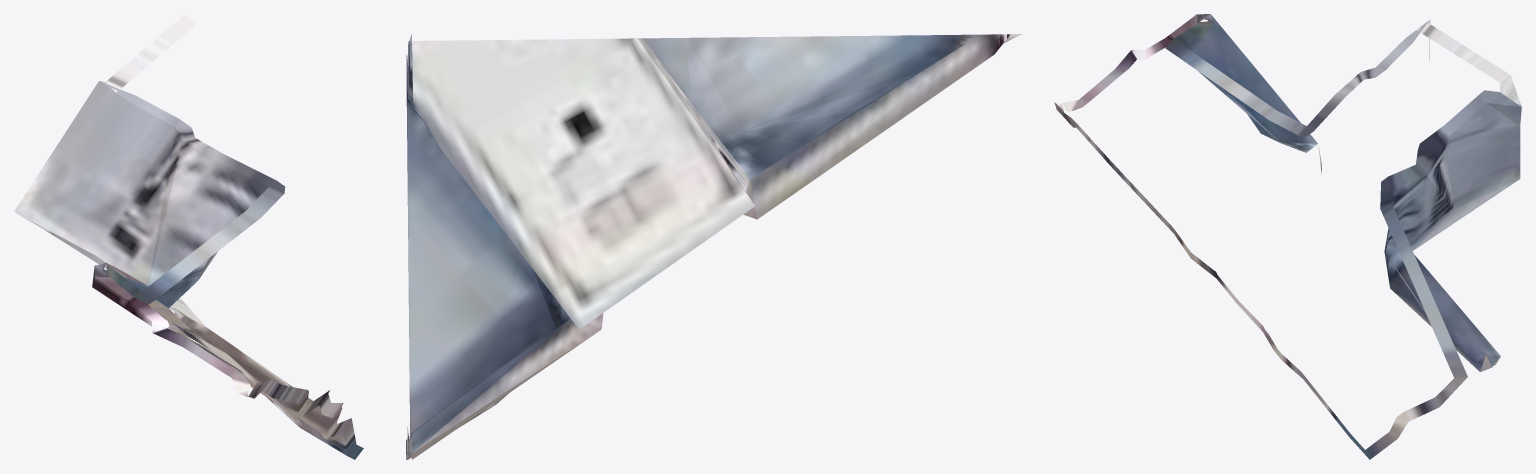
3 renders of one model, left to right at view 1: azimuth 30°, elevation 25°; view 2: azimuth 150°, elevation 25°; view 3: azimuth 270°, elevation 25°, orthographic. The views are drawn at different scales.
Bounding box in the file's own units: 12.5 × 13.13 × 15.97.
Materials: 1 (1 with a texture image).
